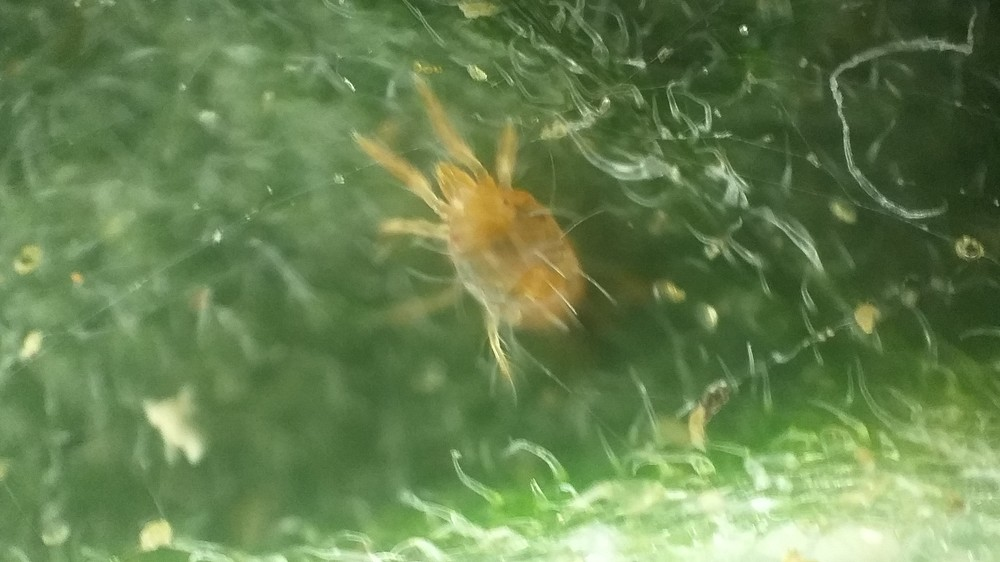Aracnido Rojo: (340, 74, 665, 404)
